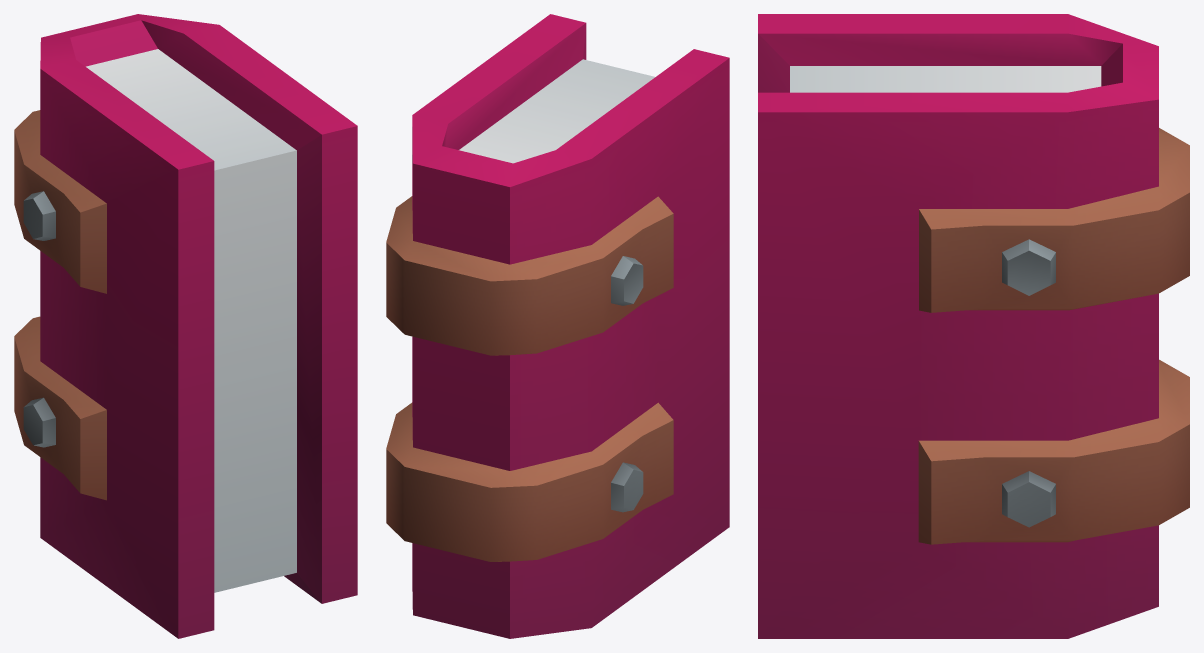
File: spellbook_closed.glb
3 views of the same model, side by side, from view 1: azimuth 30°, elevation 25°; view 2: azimuth 150°, elevation 25°; view 3: azimuth 270°, elevation 25° (orthographic). The views are drawn at different scales.
Bounding box in the file's own units: 0.293 × 0.575 × 0.4271.
1 material, 1 textured.
